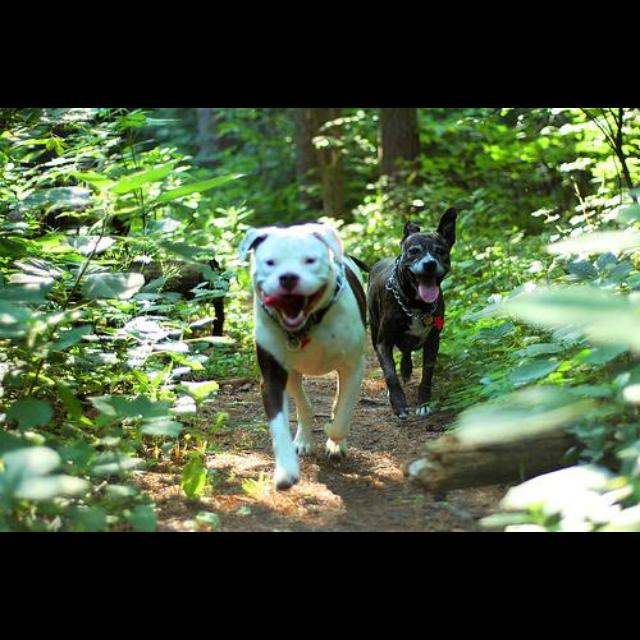amstaff: (240, 223, 371, 491)
